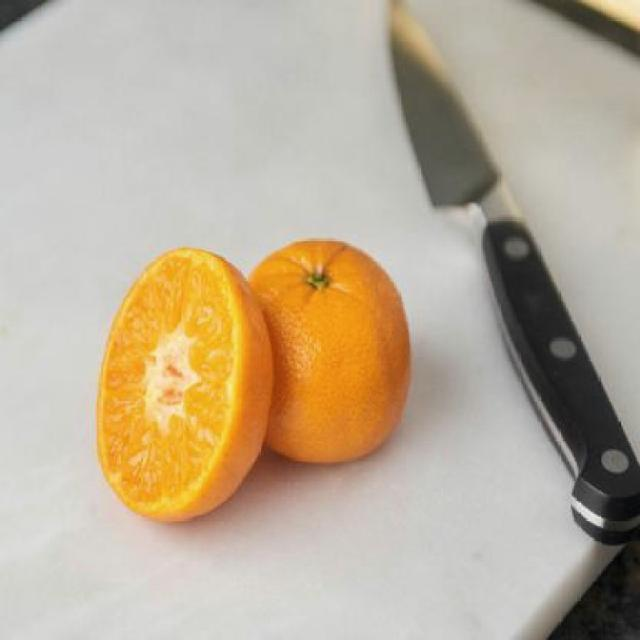Jeruk Sudah Matang: (238, 235, 410, 463)
